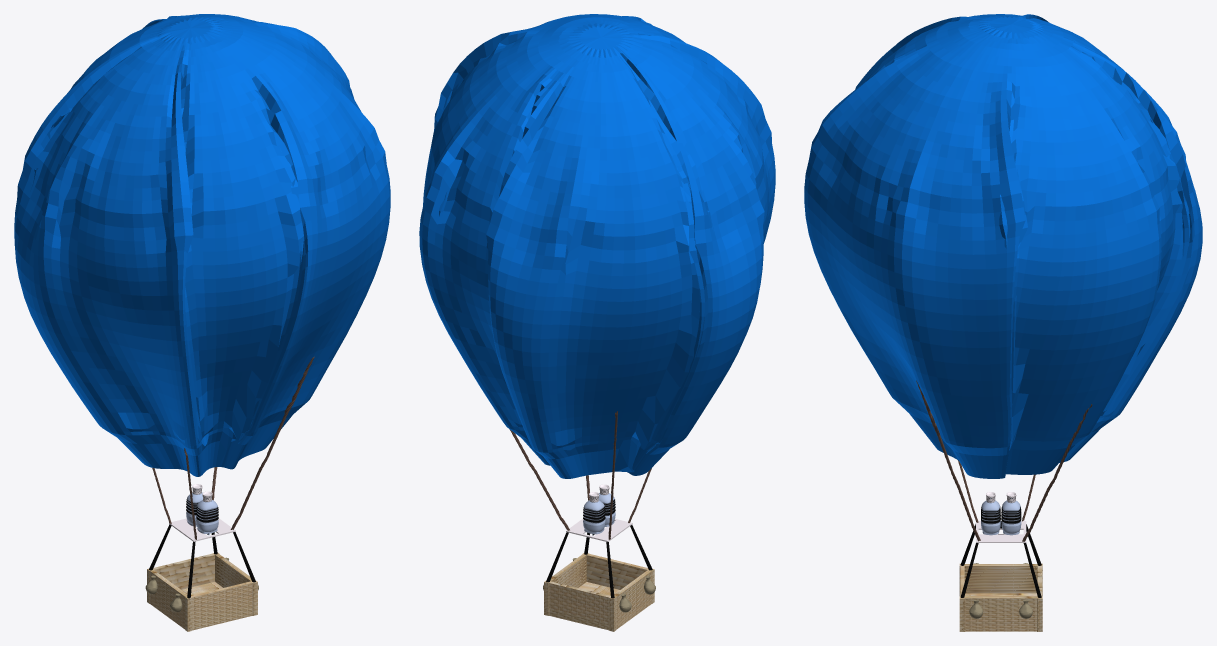
Rendered from Balloon.fbx.
The picture shows the model from 3 angles, left to right: view 1: azimuth 30°, elevation 25°; view 2: azimuth 150°, elevation 25°; view 3: azimuth 270°, elevation 25°; orthographic projection.
Visible parts, largest first — view 1: Balloon; view 2: Balloon; view 3: Balloon.
Boxes of the visible parts, x1,y1,x2,y2 form: Balloon: (14, 14, 390, 631); Balloon: (419, 14, 775, 631); Balloon: (804, 14, 1202, 631).
Bounding box in the file's own units: 979 × 1597 × 935.
